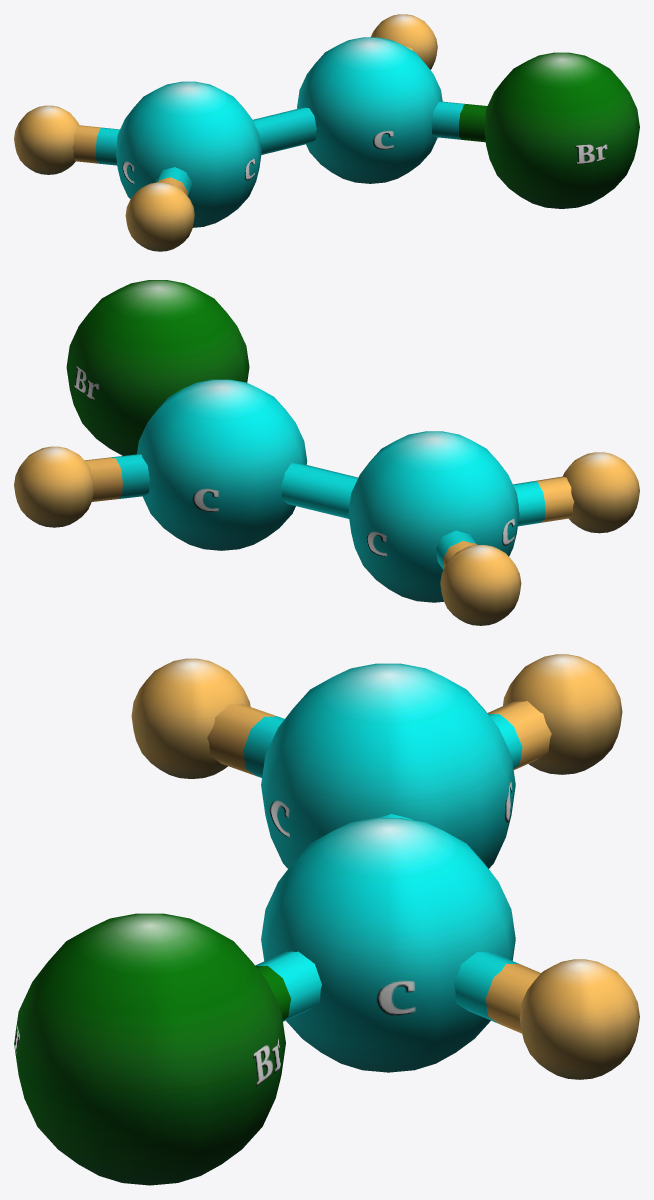
File: BromoEthene.dae
The picture shows the model from 3 angles, top to bottom: view 1: azimuth 30°, elevation 25°; view 2: azimuth 150°, elevation 25°; view 3: azimuth 270°, elevation 25°; orthographic projection. The views are drawn at different scales.
Visible parts, largest first — view 1: polySurface15; view 2: polySurface15; view 3: polySurface15.
Boxes of the visible parts, x1,y1,x2,y2 form: polySurface15: (14, 14, 639, 251); polySurface15: (14, 280, 639, 625); polySurface15: (14, 654, 639, 1185).
Bounding box in the file's own units: 6.55 × 1.81 × 4.15.
Materials: 1 (1 with a texture image).
